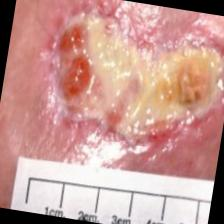wound-ulser: (23, 0, 224, 166)
